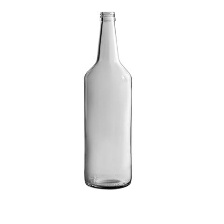bottle: (79, 4, 140, 196)
